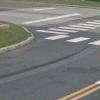Crosswalk: (33, 21, 100, 53)
